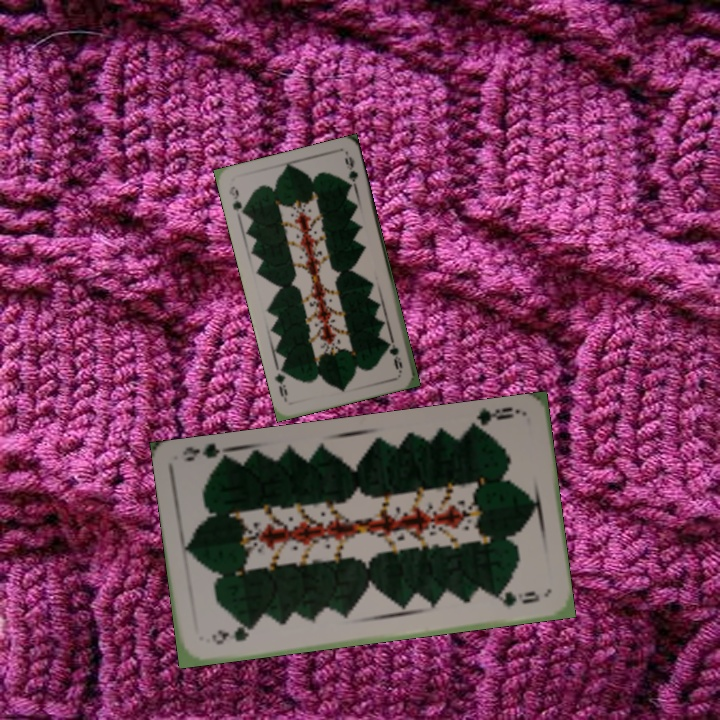G9: (465, 403, 523, 434), (208, 623, 256, 647), (225, 182, 248, 219), (386, 334, 405, 374)
